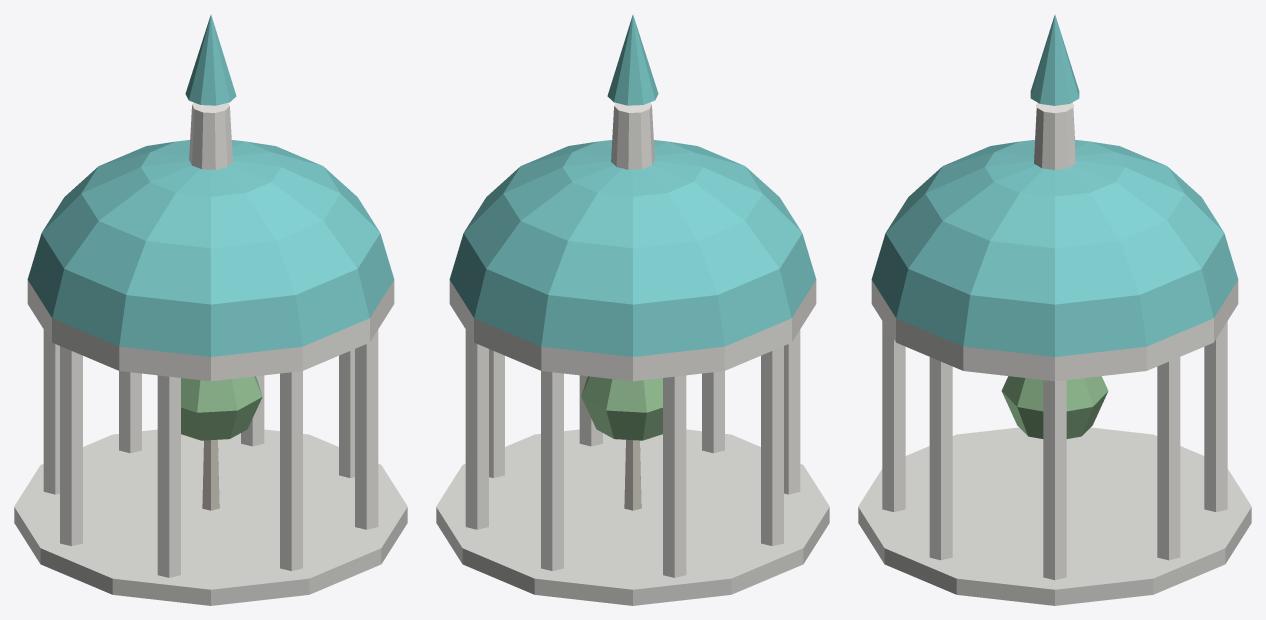
3 renders of one model, left to right at view 1: azimuth 30°, elevation 25°; view 2: azimuth 150°, elevation 25°; view 3: azimuth 270°, elevation 25°, orthographic.
Visible parts, largest first — view 1: body; view 2: body; view 3: body.
Part boxes in pixels (x1,y1,x2,y2): body: (14, 15, 407, 605); body: (436, 15, 829, 605); body: (858, 15, 1251, 605).
Size of the model in its own units: 8.8 by 12.55 by 8.8.
